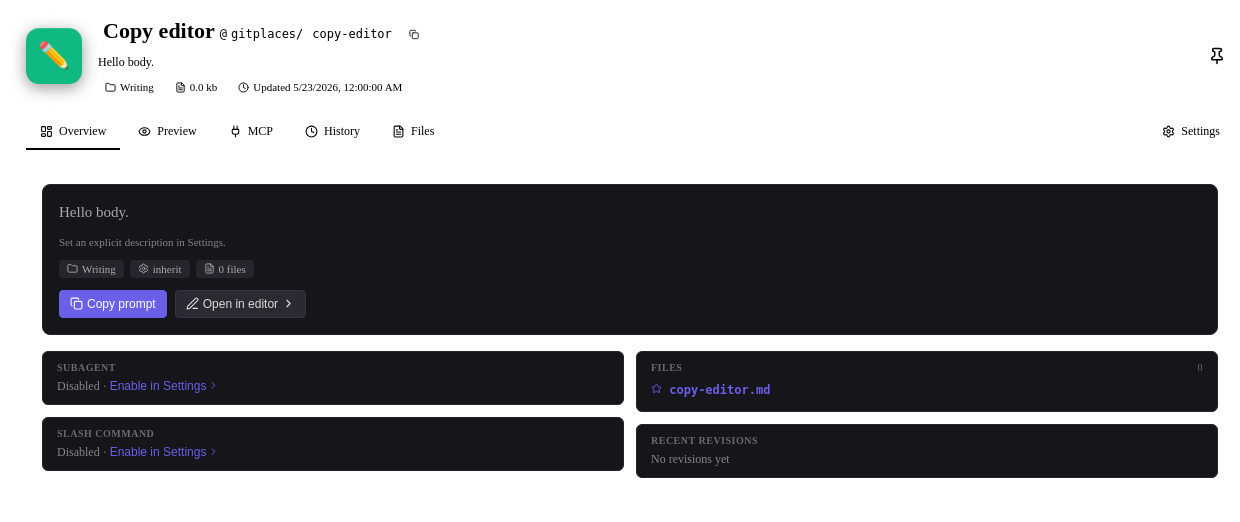
Test: AgentDetail › shows nameDraft in header after inline name edit even before save resolves
Double-click the heading "Copy editor" at (159, 31), box [98,16,220,46]
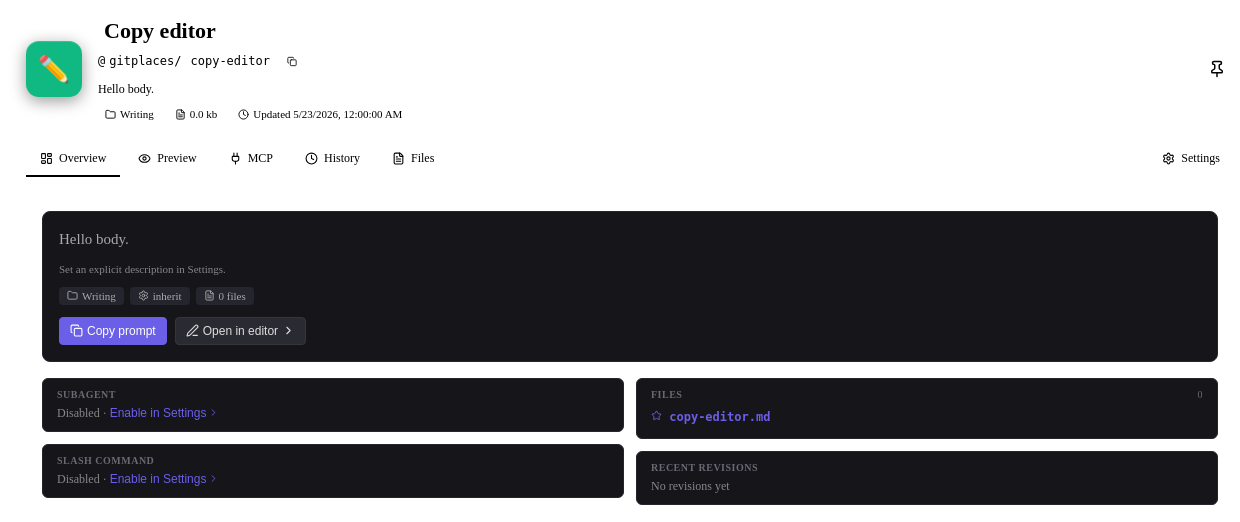
Replace the text in the field showing "Copy editor" with "Renamed agent" at (641, 31), box [98,16,1184,46]
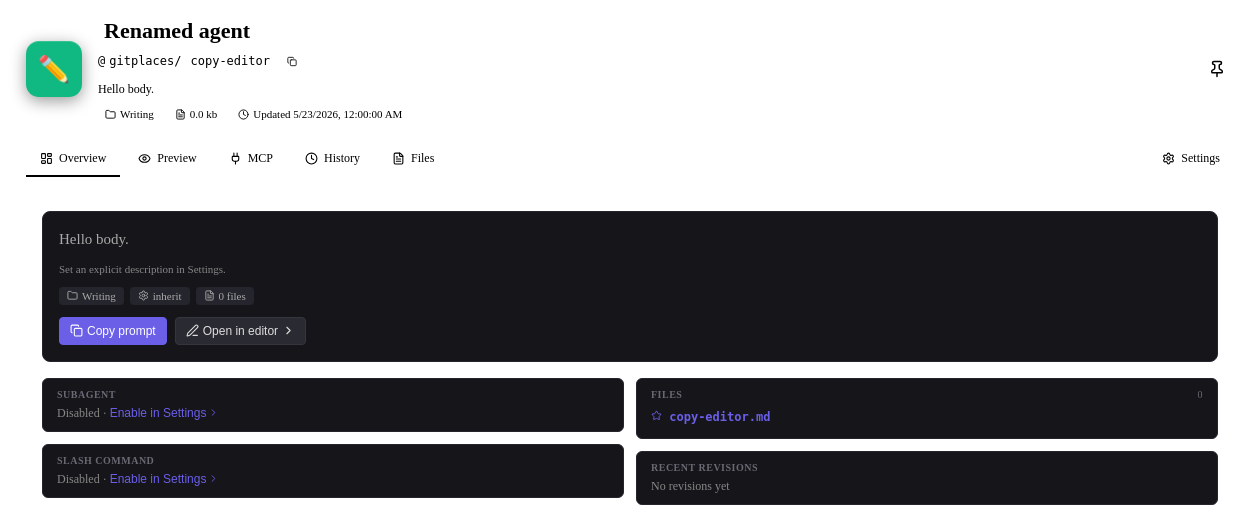
Leave the field showing "Copy editor", box [98,16,1184,46]
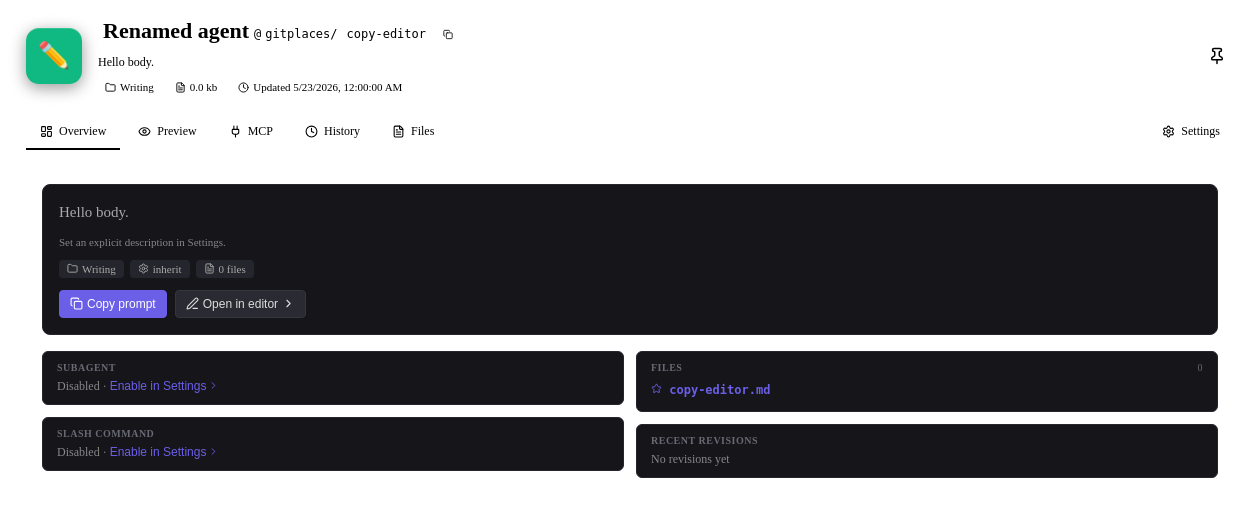
Now the heading "Renamed agent" is shown, box [98,16,254,46]
